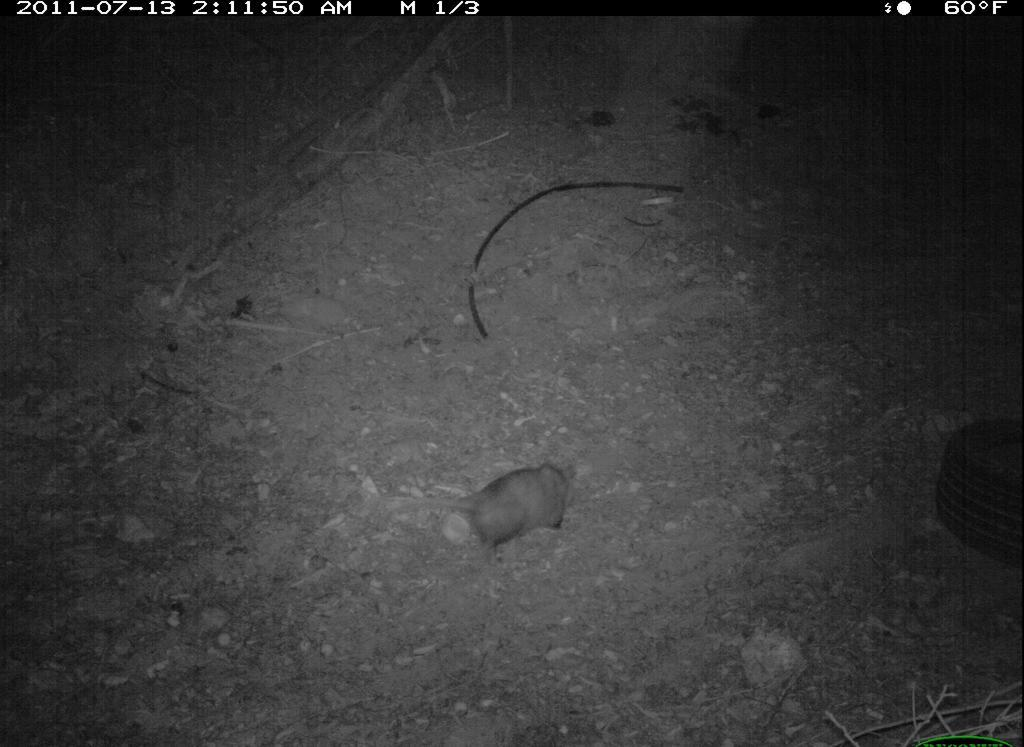opossum: (415, 452, 583, 559)
